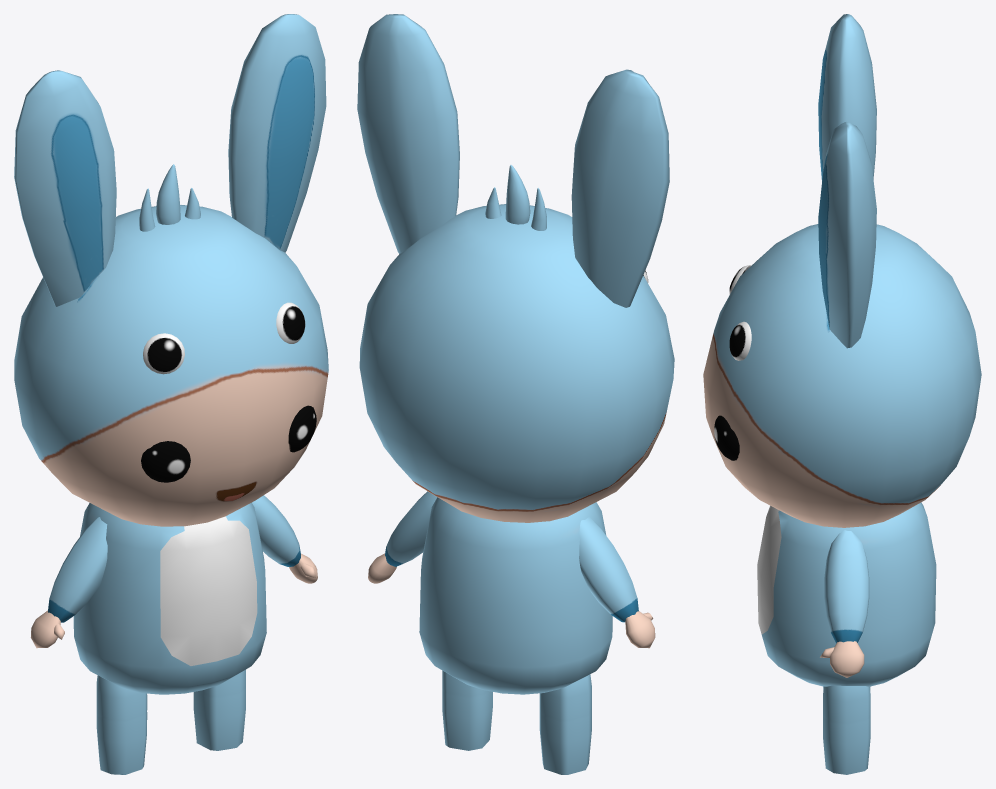
Rendered from uploads_files_3479275_Rabbit.fbx.
The picture shows the model from 3 angles, left to right: view 1: azimuth 30°, elevation 25°; view 2: azimuth 150°, elevation 25°; view 3: azimuth 270°, elevation 25°; orthographic projection. The views are drawn at different scales.
Visible parts, largest first — view 1: Rabiit; view 2: Rabiit; view 3: Rabiit.
Part boxes in pixels (x1,y1,x2,y2): Rabiit: (14,14,328,774); Rabiit: (357,14,674,774); Rabiit: (703,14,981,774).
Size of the model in its own units: 1.01 by 2.21 by 0.8254.
Materials: 1 (1 with a texture image).
